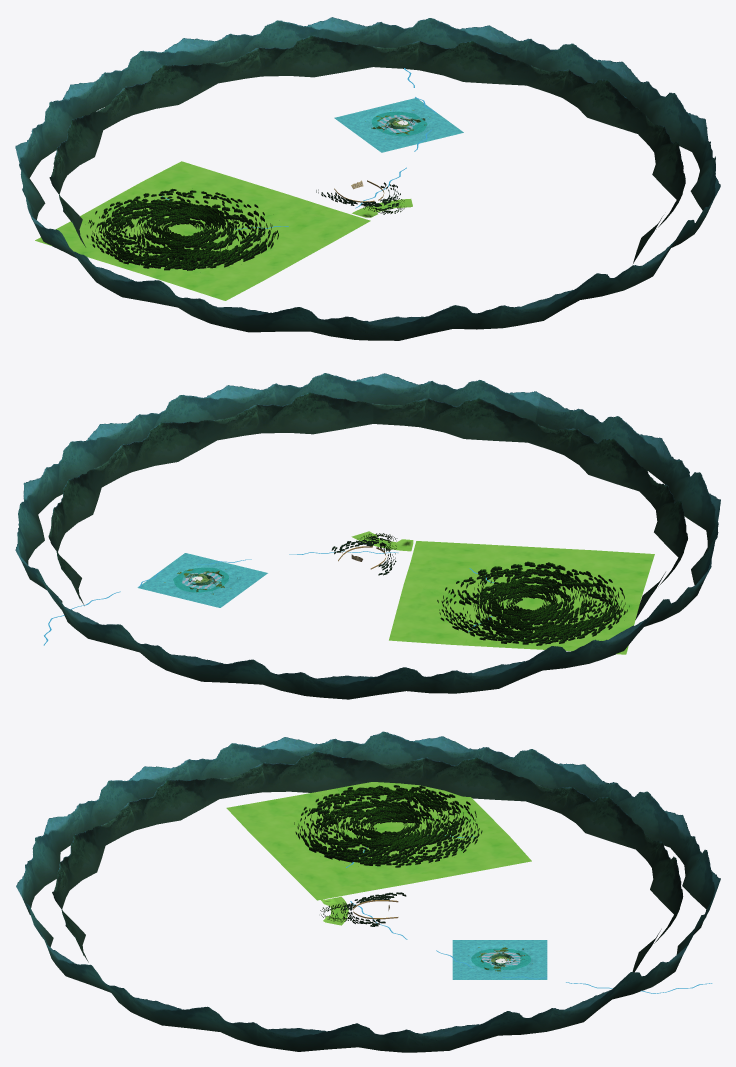
Rendered from backdrop.gltf.
3 views of the same model, one above another, from view 1: azimuth 30°, elevation 25°; view 2: azimuth 150°, elevation 25°; view 3: azimuth 270°, elevation 25° (orthographic).
Parts seen in each view (by area): view 1: sa00zback05_001, sa00zback04_001, Outer Plains, sa00zback01_000, Plains_Ground; view 2: sa00zback05_001, sa00zback04_001, Outer Plains, sa00zback01_000, Plains_Ground, sa00zback03_001; view 3: sa00zback05_001, sa00zback04_001, Outer Plains, sa00zback01_000, Plains_Ground, sa00zback03_001.
Boxes of the visible parts, x1,y1,x2,y2 form: sa00zback05_001: (15, 17, 720, 340); sa00zback04_001: (49, 35, 685, 263); Outer Plains: (35, 161, 412, 300); sa00zback01_000: (86, 188, 404, 270); Plains_Ground: (334, 98, 463, 152); sa00zback05_001: (15, 373, 720, 699); sa00zback04_001: (48, 392, 687, 619); Outer Plains: (351, 531, 654, 654); sa00zback01_000: (356, 533, 629, 645); Plains_Ground: (137, 553, 267, 607); sa00zback03_001: (331, 536, 396, 575); sa00zback05_001: (16, 731, 720, 1052); sa00zback04_001: (52, 751, 683, 972); Outer Plains: (226, 782, 531, 925); sa00zback01_000: (294, 785, 482, 922); Plains_Ground: (452, 940, 547, 979); sa00zback03_001: (331, 892, 406, 926).
Bounding box in the file's own units: 10564 × 644 × 10791.
43 materials, 43 textured.
